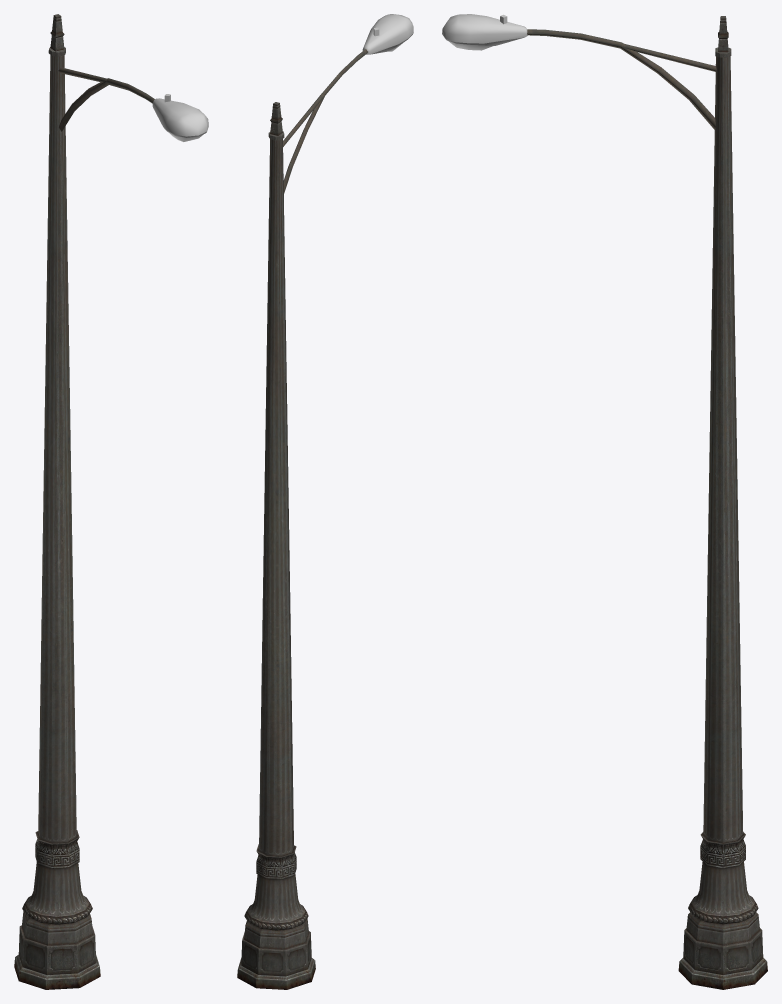
The model's file is prop_streetlight_01.obj.
3 views of the same model, side by side, from view 1: azimuth 30°, elevation 25°; view 2: azimuth 150°, elevation 25°; view 3: azimuth 270°, elevation 25° (orthographic). The views are drawn at different scales.
Bounding box in the file's own units: 0.79 × 9.39 × 2.88.
Materials: 4 (1 with a texture image).
